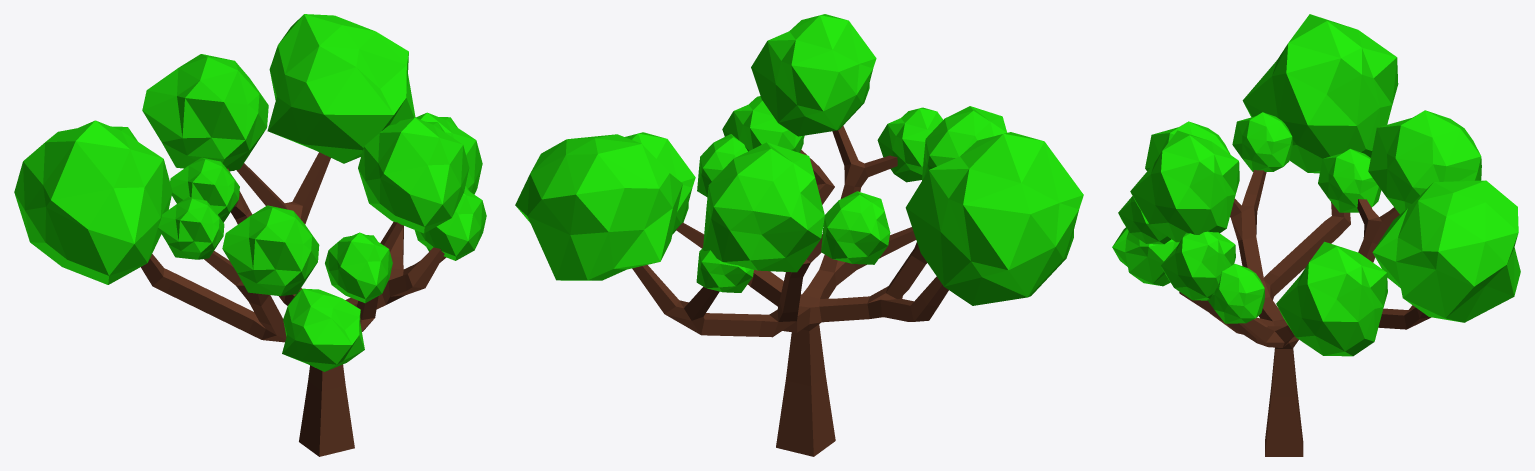
The model's file is tree3.fbx.
3 views of the same model, side by side, from view 1: azimuth 30°, elevation 25°; view 2: azimuth 150°, elevation 25°; view 3: azimuth 270°, elevation 25° (orthographic). The views are drawn at different scales.
Parts seen in each view (by area): view 1: Icosphere.003, Icosphere, Plane, Icosphere.001, Icosphere.002, Icosphere.004, Icosphere.010, Icosphere.009, Icosphere.005, Icosphere.012, Icosphere.007, Icosphere.006; view 2: Icosphere.003, Plane, Icosphere, Icosphere.001, Icosphere.002, Icosphere.012, Icosphere.004, Icosphere.009, Icosphere.007, Icosphere.006, Icosphere.011, Icosphere.008; view 3: Icosphere, Icosphere.003, Plane, Icosphere.006, Icosphere.002, Icosphere.001, Icosphere.007, Icosphere.012, Icosphere.005, Icosphere.008, Icosphere.010, Icosphere.004 (+1 smaller).
Part boxes in pixels (x1=…): Icosphere.003: x1=14, y1=120, x2=172, y2=284; Icosphere: x1=267, y1=14, x2=415, y2=163; Plane: x1=141, y1=152, x2=446, y2=456; Icosphere.001: x1=142, y1=54, x2=268, y2=170; Icosphere.002: x1=358, y1=117, x2=469, y2=233; Icosphere.004: x1=222, y1=205, x2=319, y2=295; Icosphere.010: x1=282, y1=288, x2=364, y2=371; Icosphere.009: x1=325, y1=232, x2=392, y2=303; Icosphere.005: x1=158, y1=197, x2=224, y2=259; Icosphere.012: x1=170, y1=157, x2=239, y2=222; Icosphere.007: x1=414, y1=186, x2=486, y2=260; Icosphere.006: x1=396, y1=112, x2=482, y2=194; Icosphere.003: x1=905, y1=132, x2=1083, y2=305; Plane: x1=632, y1=125, x2=948, y2=456; Icosphere: x1=515, y1=134, x2=682, y2=280; Icosphere.001: x1=703, y1=142, x2=824, y2=272; Icosphere.002: x1=751, y1=14, x2=876, y2=136; Icosphere.012: x1=821, y1=191, x2=890, y2=264; Icosphere.004: x1=922, y1=106, x2=1007, y2=180; Icosphere.009: x1=877, y1=107, x2=942, y2=182; Icosphere.007: x1=722, y1=96, x2=804, y2=152; Icosphere.006: x1=625, y1=132, x2=695, y2=234; Icosphere.011: x1=696, y1=248, x2=753, y2=292; Icosphere.008: x1=697, y1=134, x2=747, y2=197; Icosphere: x1=1372, y1=180, x2=1520, y2=322; Icosphere.003: x1=1242, y1=14, x2=1398, y2=173; Plane: x1=1179, y1=170, x2=1431, y2=456; Icosphere.006: x1=1276, y1=241, x2=1387, y2=356; Icosphere.002: x1=1130, y1=130, x2=1239, y2=242; Icosphere.001: x1=1368, y1=110, x2=1481, y2=214; Icosphere.007: x1=1161, y1=231, x2=1235, y2=300; Icosphere.012: x1=1318, y1=149, x2=1381, y2=212; Icosphere.005: x1=1232, y1=112, x2=1292, y2=171; Icosphere.008: x1=1207, y1=264, x2=1264, y2=323; Icosphere.010: x1=1112, y1=227, x2=1179, y2=286; Icosphere.004: x1=1145, y1=121, x2=1230, y2=170.
Bounding box in the file's own units: 1215 × 922 × 1024.
